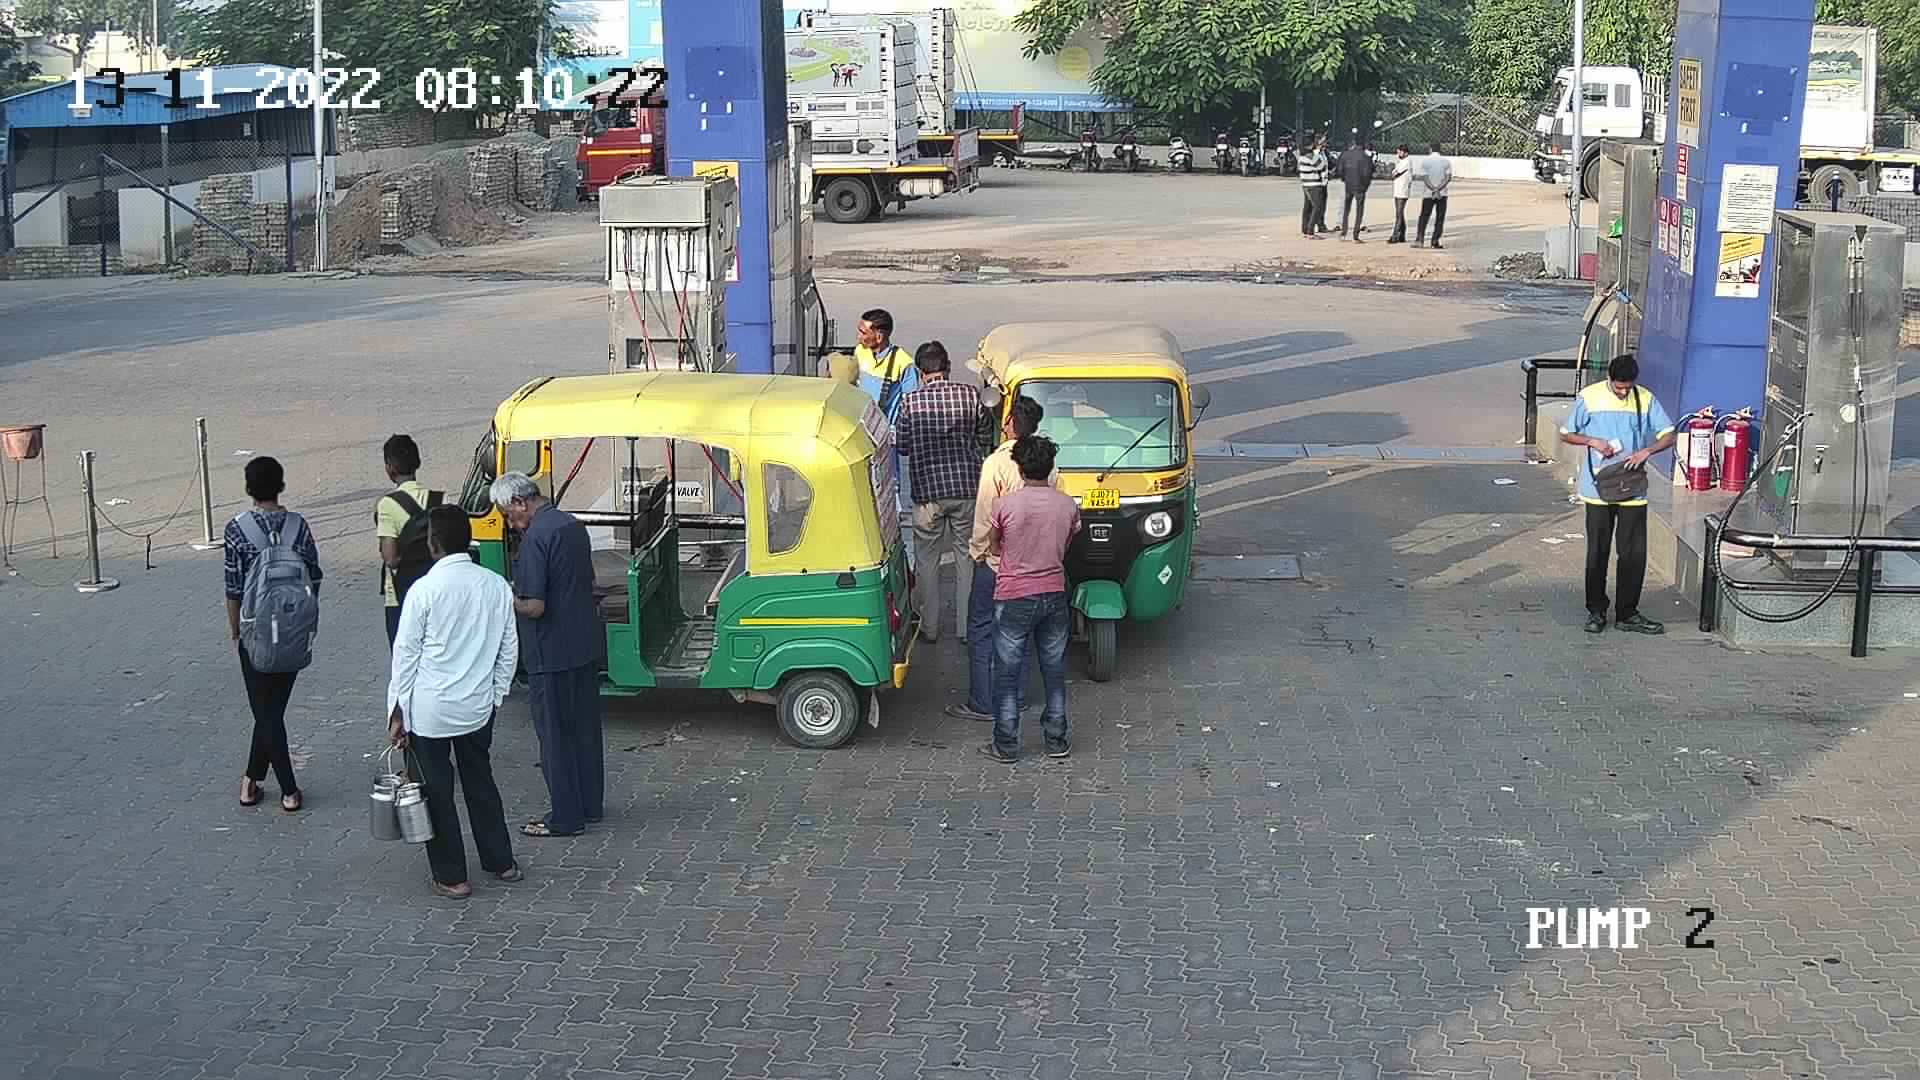Auto: (433, 357, 948, 756), (960, 309, 1218, 688)
Bike: (1158, 113, 1207, 177), (1069, 113, 1113, 175), (1112, 109, 1151, 171), (1203, 116, 1240, 177), (1234, 117, 1269, 177), (1275, 120, 1299, 179)
HMV: (765, 7, 1000, 225), (791, 0, 1038, 175), (1520, 41, 1679, 204)
Others: (1552, 349, 1673, 641), (833, 302, 923, 587)
